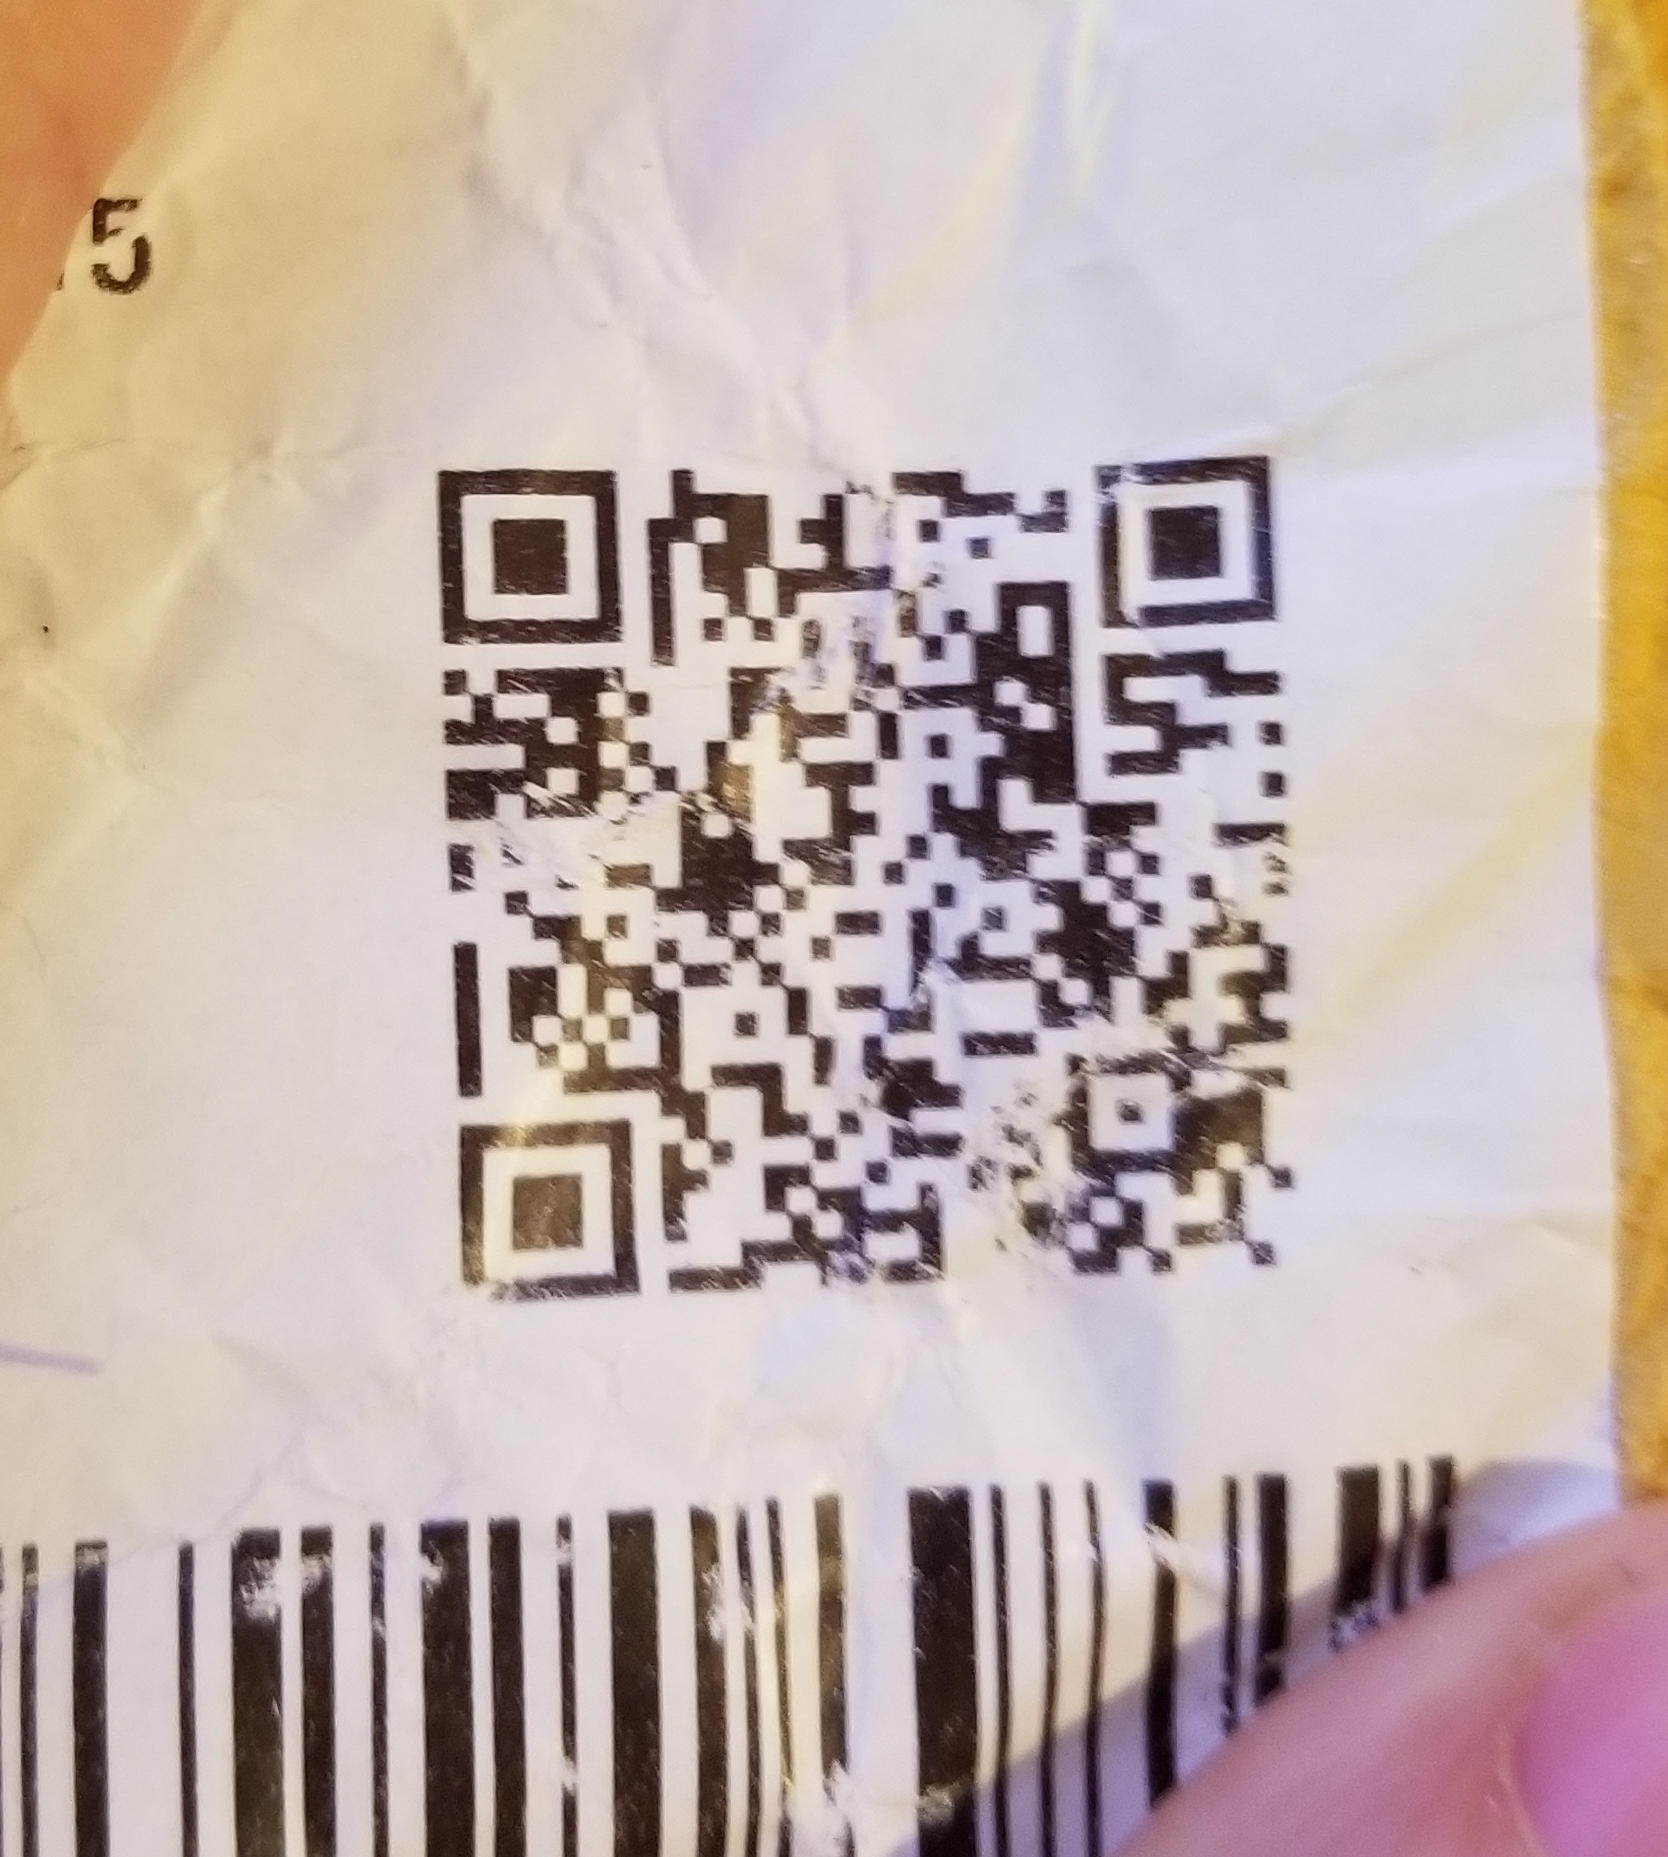QR_CODE: (374, 383, 1327, 1351)
